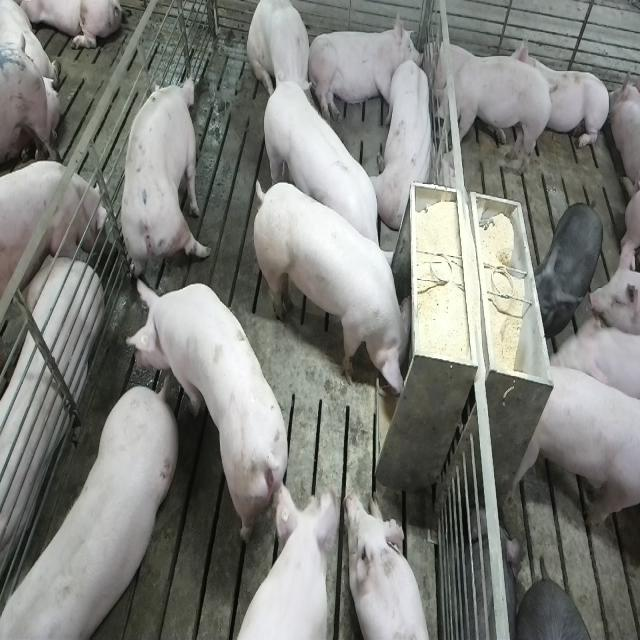Feeding: (255, 174, 419, 403)
Lateral_lying: (0, 229, 103, 589), (306, 14, 425, 127)
Sitting: (374, 57, 436, 227), (247, 1, 316, 113)
Standing: (128, 279, 294, 553), (0, 383, 175, 640), (259, 77, 389, 279), (506, 364, 638, 540), (119, 75, 209, 287), (426, 49, 555, 182), (0, 161, 105, 305), (552, 312, 640, 413)
Sternal_lying: (346, 487, 434, 640), (513, 30, 609, 154)
